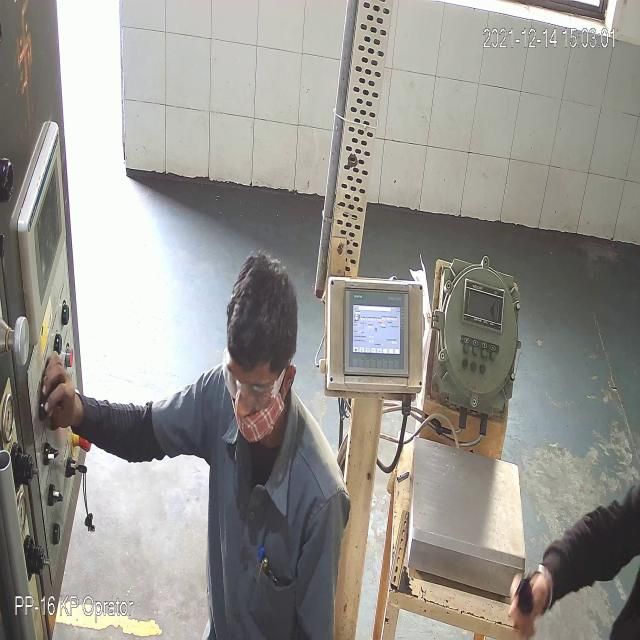glasses: (220, 361, 286, 407)
